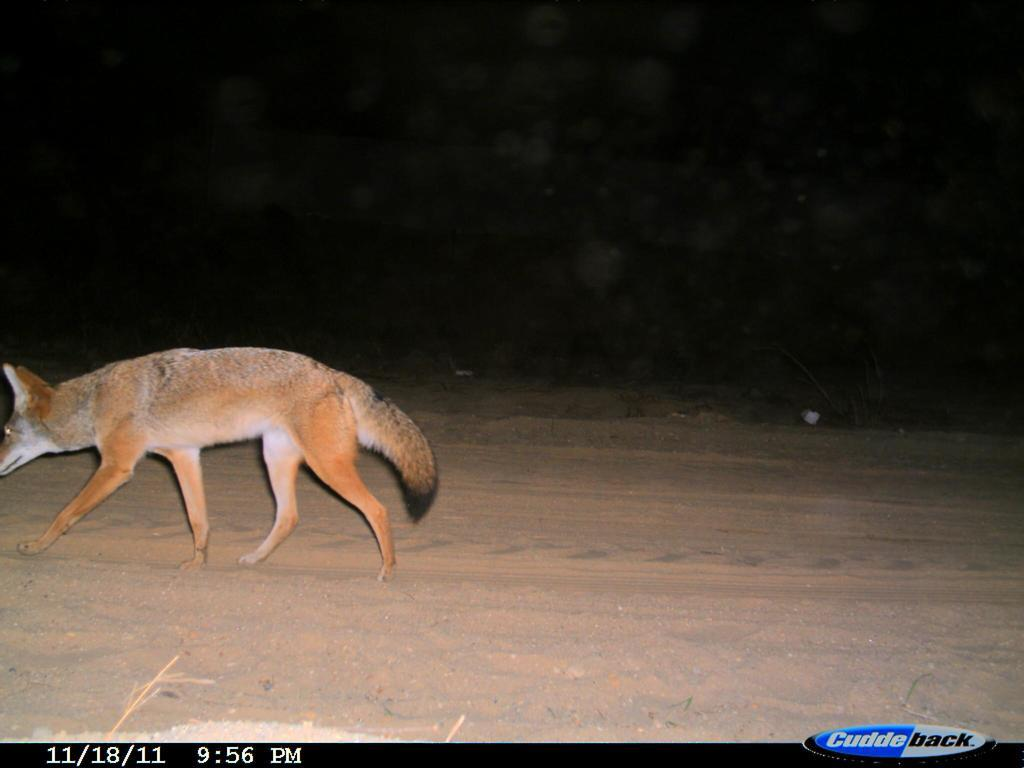coyote: (2, 345, 437, 579)
